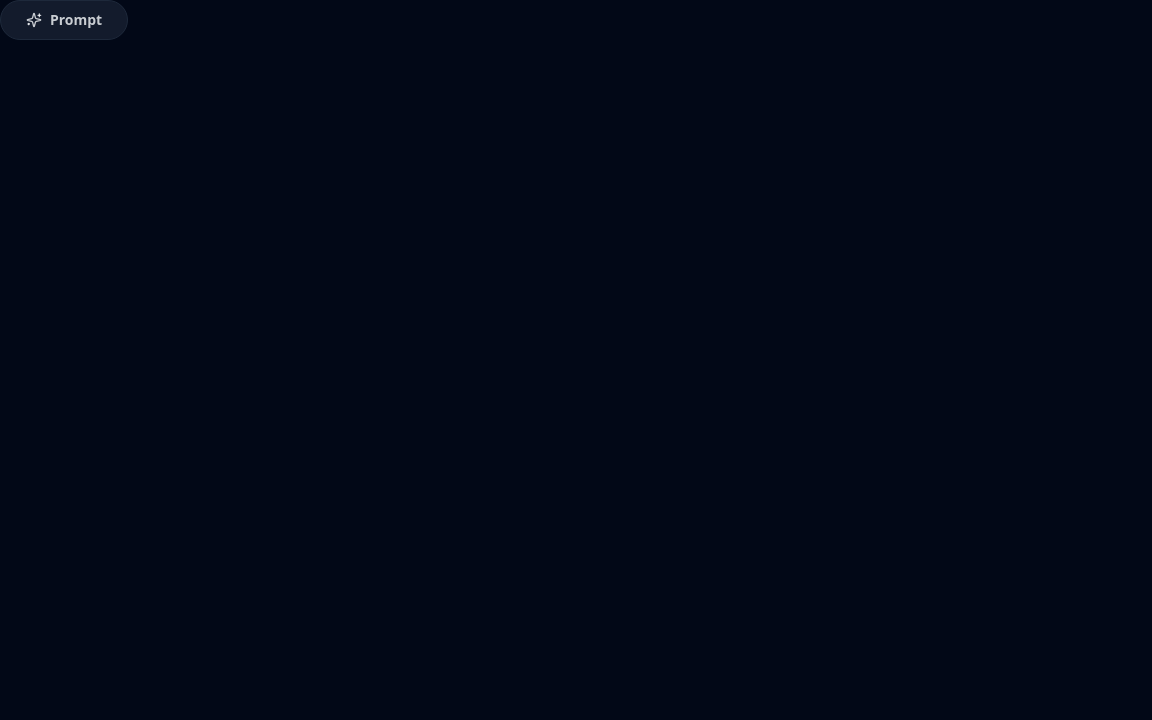
Test: PromptOptimizerPopover › opens a focused optimizer with the current composer prompt and no scenario controls
Step 1. Click the button with aria-label "Enhance prompt with AI" → (64, 20), box [0,0,128,40]
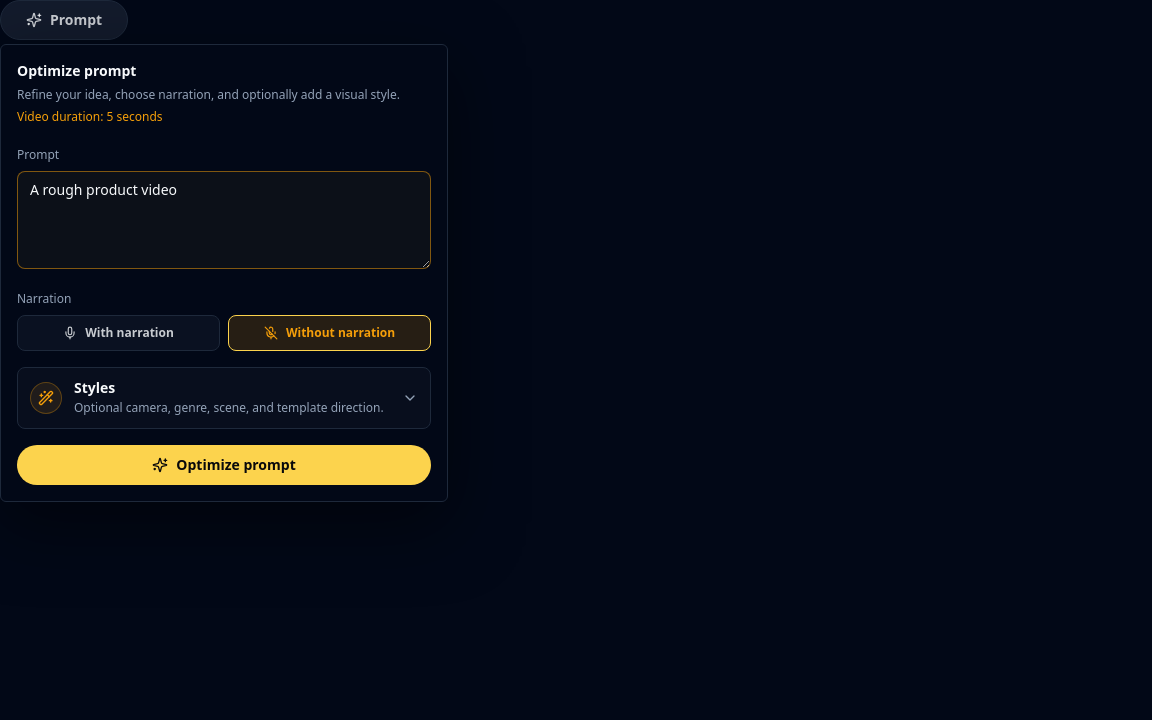
Check: the dialog named "Prompt optimizer" is shown, box [0,44,448,502]
Check: the text box labelled "Prompt" holds "A rough product video", box [17,171,431,269]
